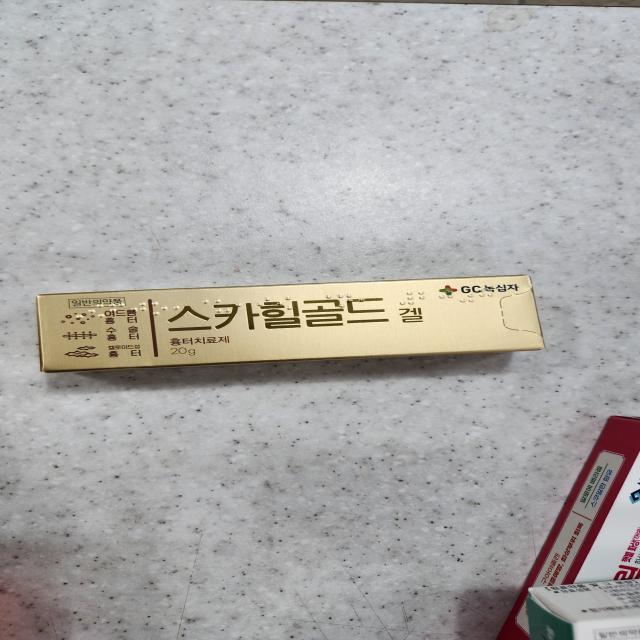box: (38, 276, 545, 371)
